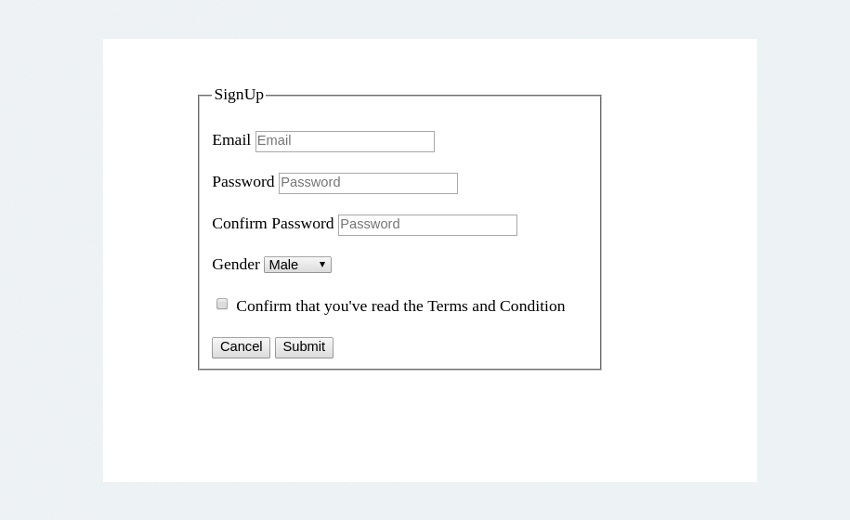_form_: (191, 36, 607, 452)
button: (209, 335, 272, 359), (272, 336, 334, 359)
checkbox: (216, 297, 232, 312)
checkbox_with_label: (212, 294, 564, 315)
field: (253, 128, 437, 155), (334, 214, 520, 239), (276, 171, 460, 195)
field_with_label: (212, 211, 523, 241), (211, 168, 462, 197), (212, 126, 439, 157), (211, 253, 337, 278)
select: (263, 255, 334, 276)
